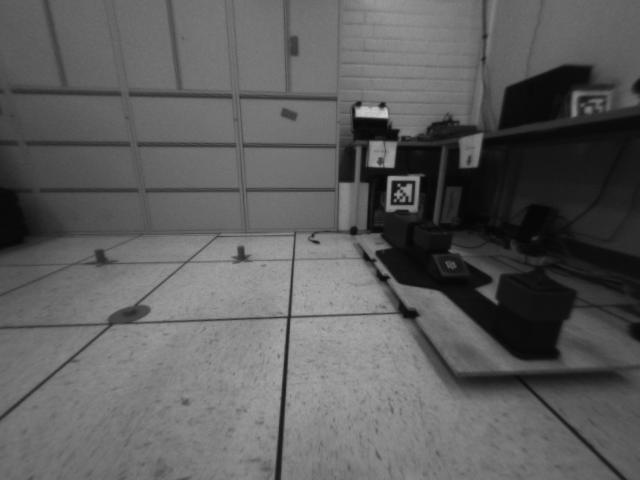X: (83, 247, 119, 268), (231, 244, 253, 265)
